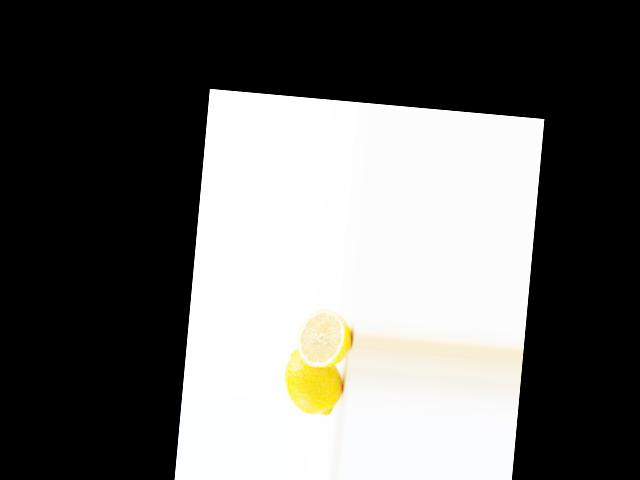lemon: (279, 340, 347, 419)
